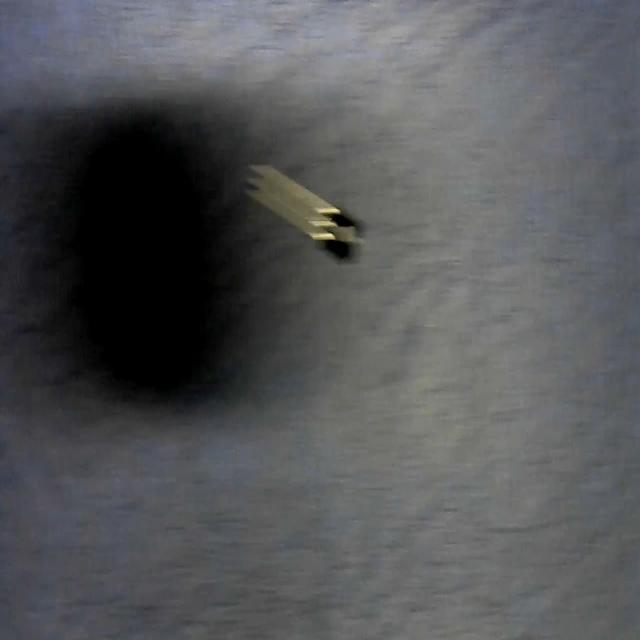BJT: (247, 159, 364, 265)
